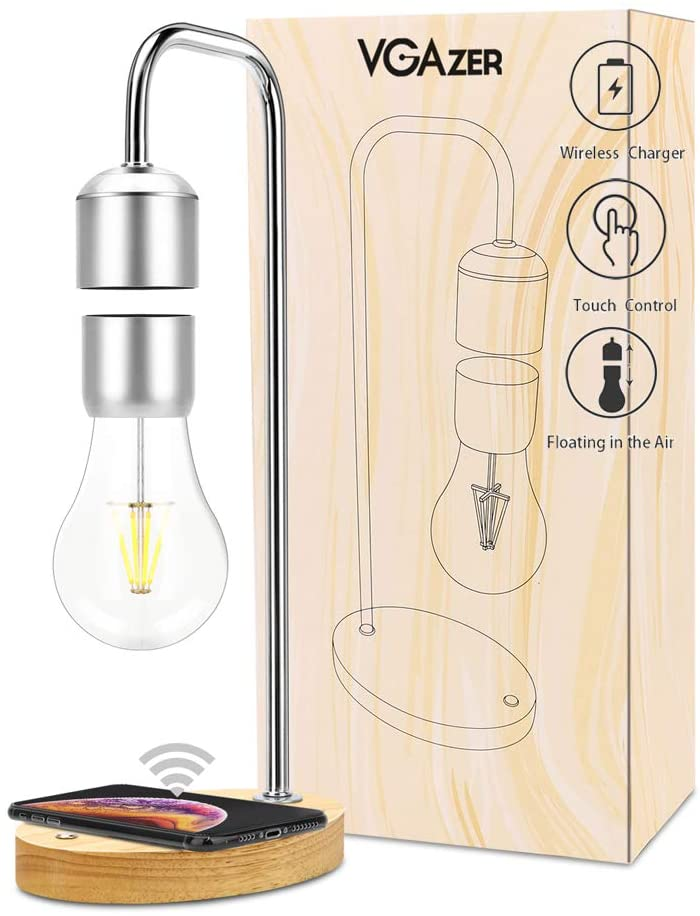bulb: (35, 355, 261, 669)
